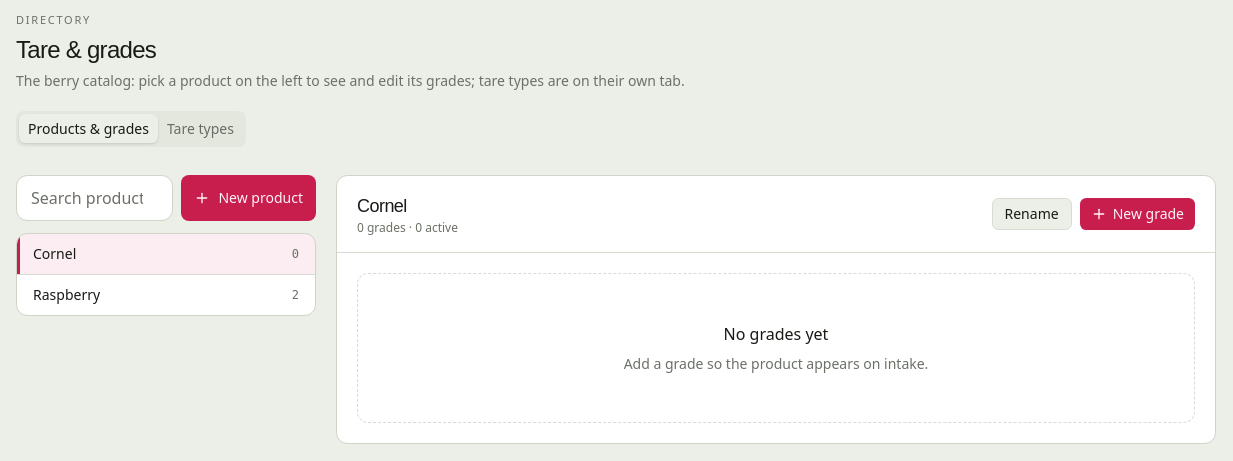
CatalogPage › switches the pane to the clicked product and lists its grades with status
Click the button "Raspberry 2". click: x=67, y=294
box: x1=17 y1=274 x2=315 y2=314
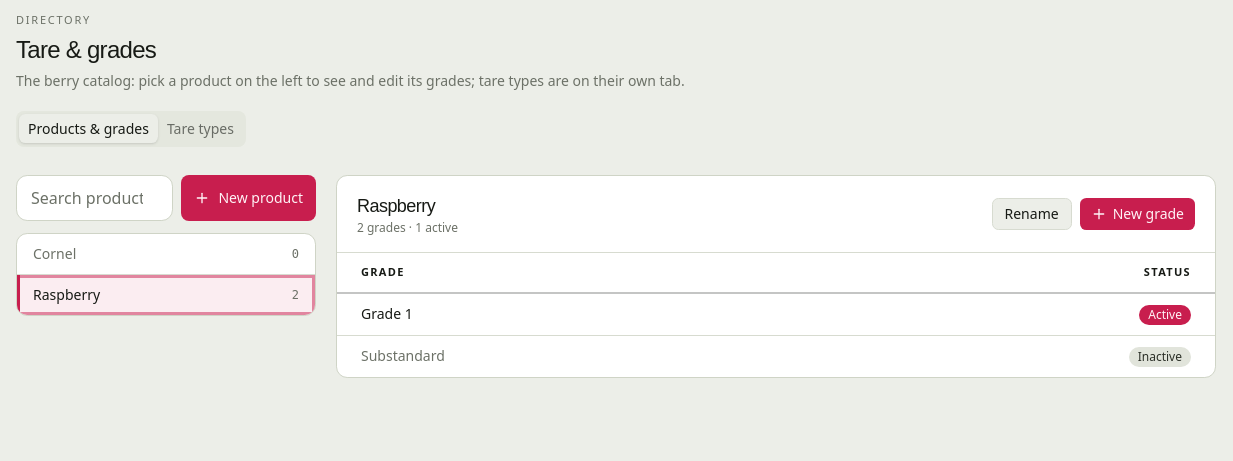
Result: the heading "Raspberry" is shown at x1=357 y1=196 x2=435 y2=216
Result: the text "2 grades · 1 active" is shown at x1=357 y1=220 x2=458 y2=236
Result: the text "Grade 1" is shown at x1=361 y1=304 x2=413 y2=323
